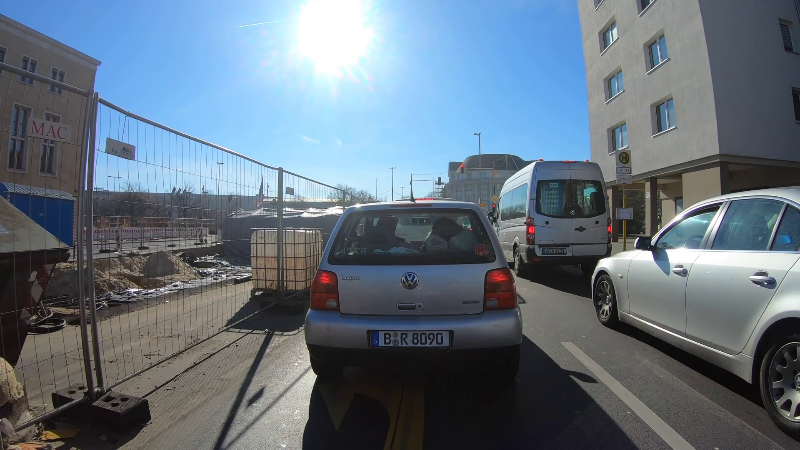Plate: (368, 330, 452, 348), (540, 246, 569, 255)
